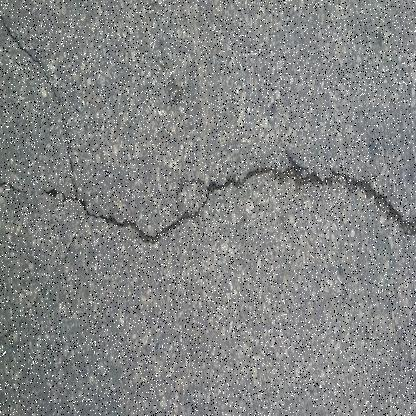Cracks: (0, 144, 415, 250), (0, 0, 84, 210), (0, 203, 91, 353)
